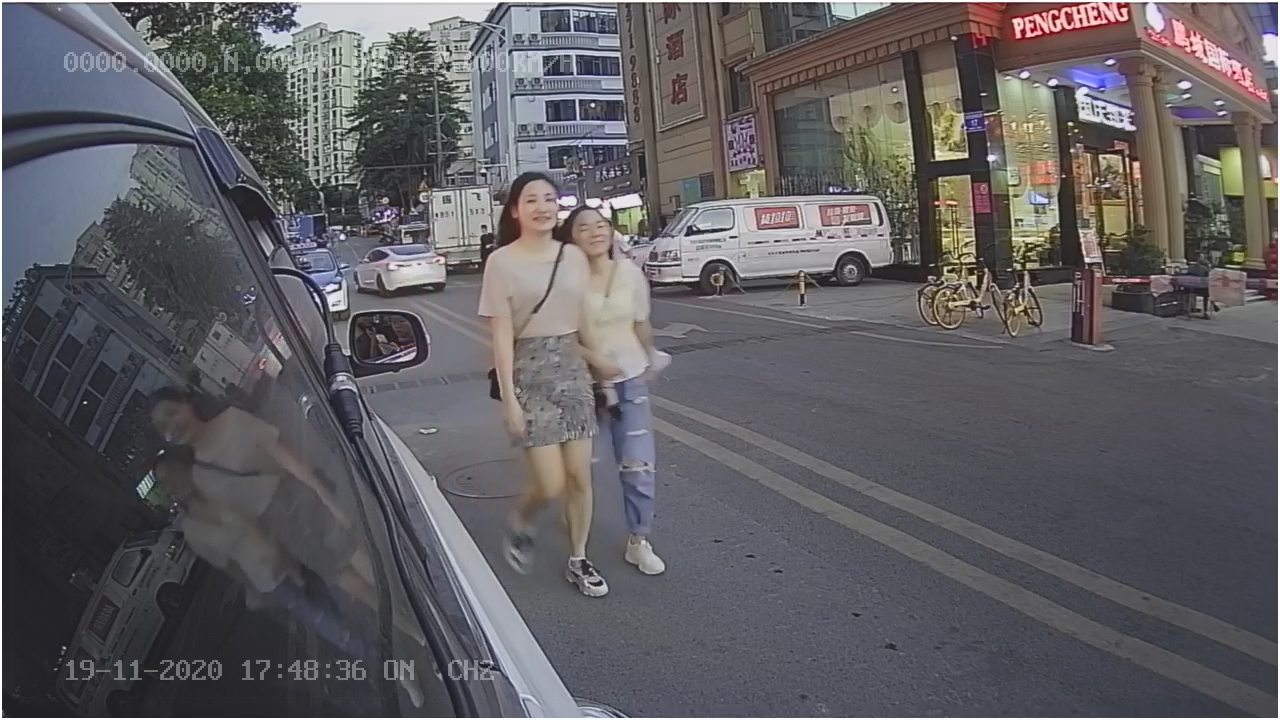person: (470, 174, 609, 535)
